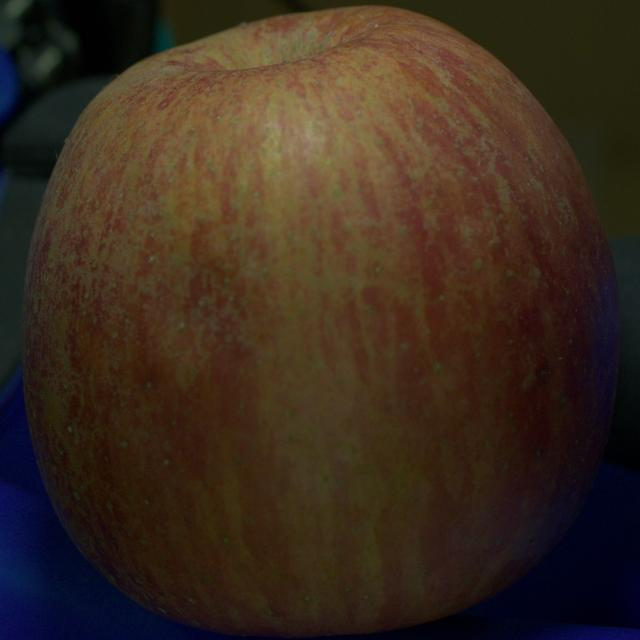apple: (23, 7, 619, 636)
